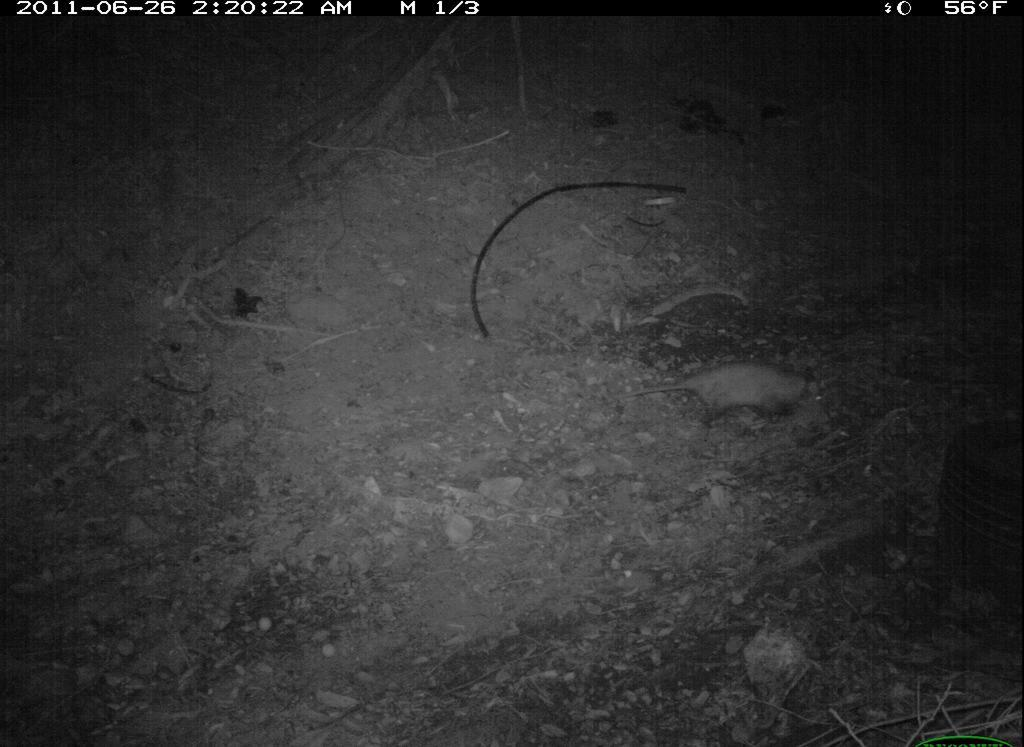opossum: (614, 360, 829, 440)
